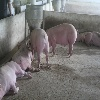heo: (28, 27, 54, 82), (1, 60, 31, 98), (48, 25, 78, 59), (11, 42, 31, 69), (84, 30, 100, 46)
